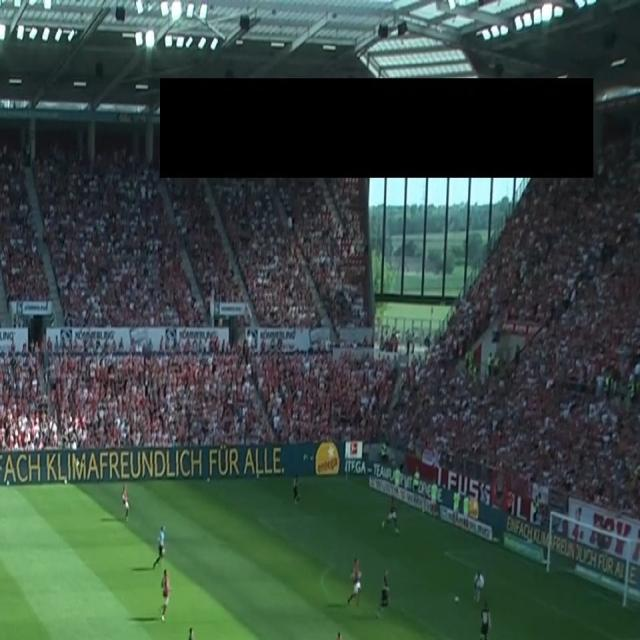ball: (454, 595, 459, 604)
